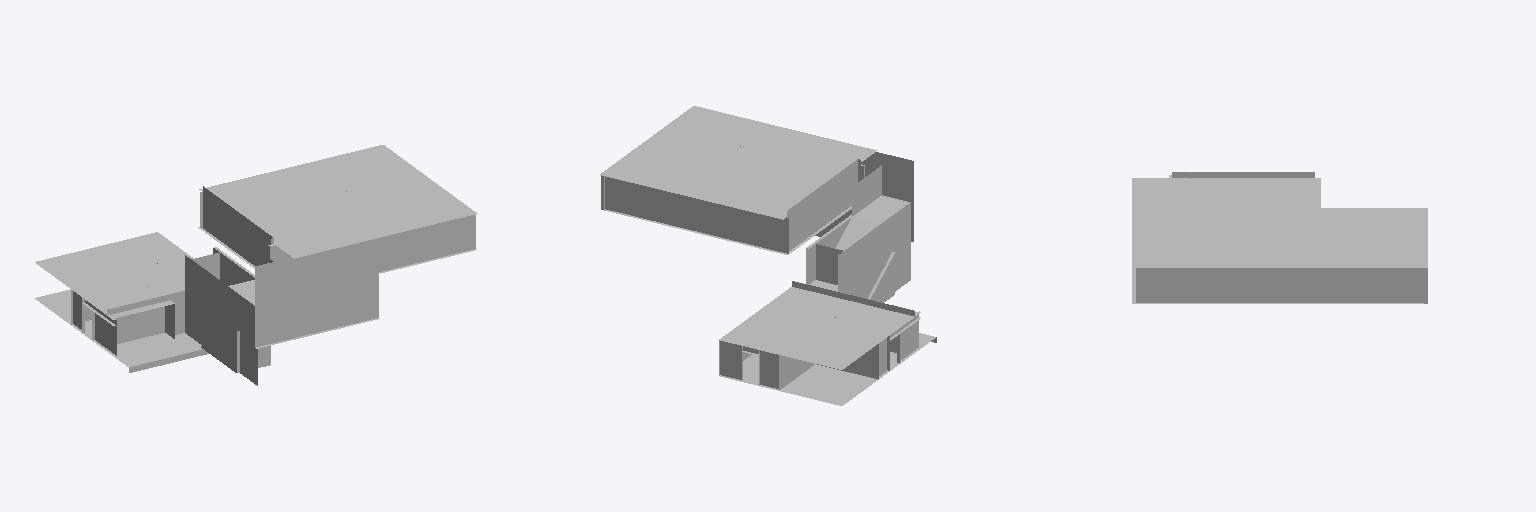
Rendered from RZ_room2C_electrical.obj.
The picture shows the model from 3 angles: view 1: azimuth 30°, elevation 25°; view 2: azimuth 150°, elevation 25°; view 3: azimuth 270°, elevation 25°; orthographic projection.
Visible parts, largest first — view 1: OZ_room2C_electrical; view 2: OZ_room2C_electrical; view 3: OZ_room2C_electrical.
Part boxes in pixels (left/top/right/bottom): OZ_room2C_electrical: left=34, top=145, right=477, bottom=385; OZ_room2C_electrical: left=600, top=106, right=936, bottom=405; OZ_room2C_electrical: left=1132, top=172, right=1427, bottom=303.
Bounding box in the file's own units: 32.96 × 14.08 × 28.48.